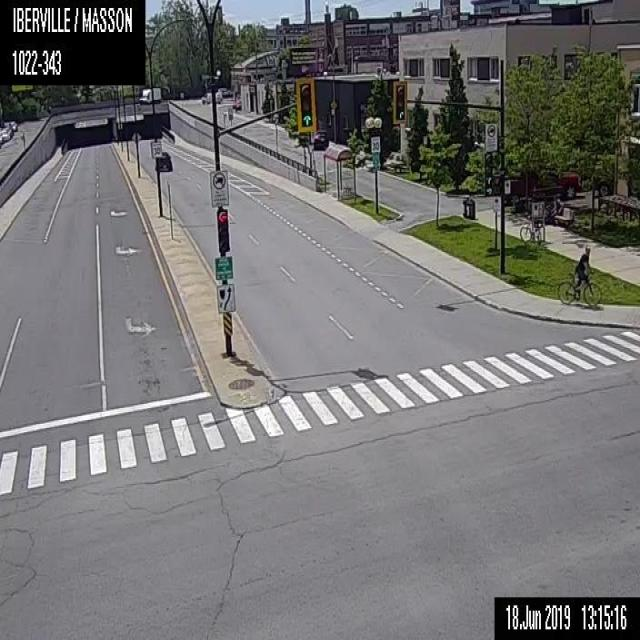cyclist: (556, 245, 602, 307)
vehicle: (137, 85, 160, 103), (154, 151, 172, 172), (310, 127, 326, 148), (201, 90, 224, 104)
